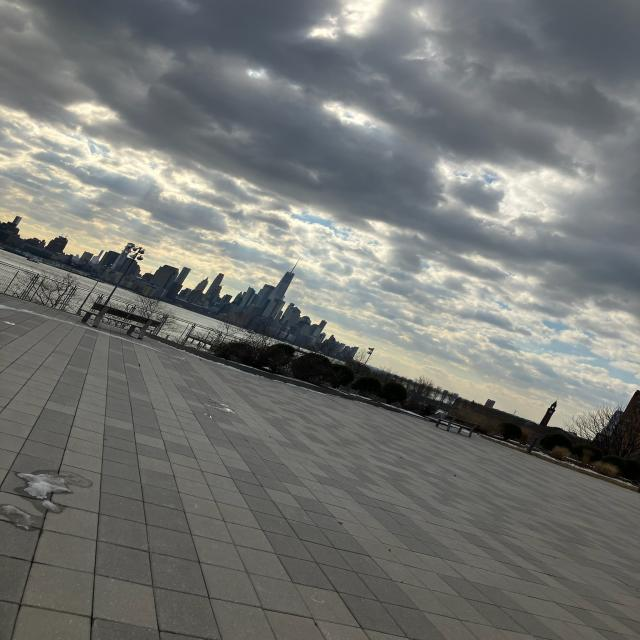WTC: (270, 255, 304, 300)
